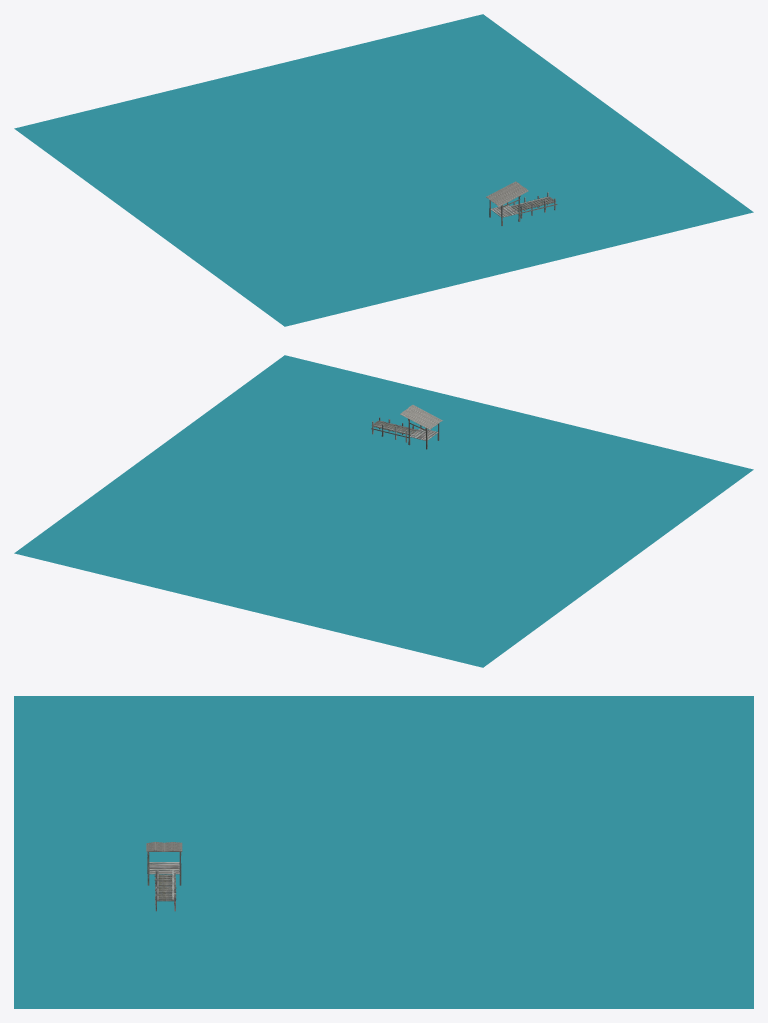
The model's file is coast-0-0.glb.
3 renders of one model, top to bottom at view 1: azimuth 30°, elevation 25°; view 2: azimuth 150°, elevation 25°; view 3: azimuth 270°, elevation 25°, orthographic. The views are drawn at different scales.
Parts seen in each view (by area): view 1: coast-0-0; view 2: coast-0-0; view 3: coast-0-0.
Part boxes in pixels (x1,y1,x2,y2): coast-0-0: [14, 14, 753, 326]; coast-0-0: [14, 355, 753, 667]; coast-0-0: [14, 696, 753, 1008].
Bounding box in the file's own units: 128 × 10.74 × 128.
Materials: 4 (4 with a texture image).
